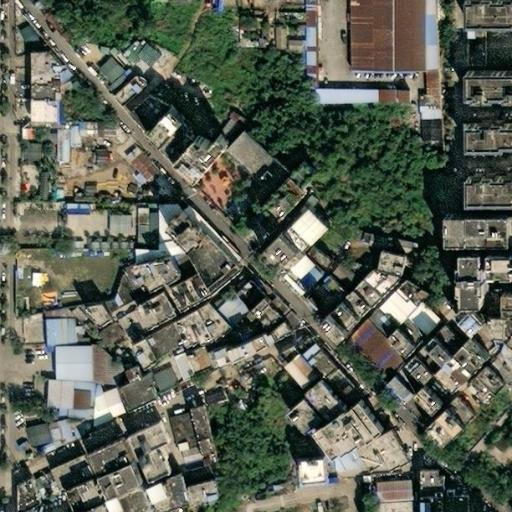building: (344, 0, 418, 73), (221, 130, 287, 193), (326, 409, 390, 471), (270, 167, 327, 229), (277, 336, 333, 392), (133, 203, 182, 262), (358, 323, 401, 380), (155, 118, 203, 166), (459, 21, 512, 64), (191, 146, 237, 193), (193, 243, 239, 290), (115, 26, 161, 71), (123, 89, 168, 133), (454, 222, 512, 254), (186, 402, 215, 464), (106, 468, 152, 505), (206, 104, 246, 146), (312, 385, 352, 426), (163, 211, 203, 252), (95, 443, 139, 480), (130, 424, 173, 461), (115, 376, 156, 414), (170, 276, 211, 314), (45, 456, 89, 491), (473, 262, 500, 317), (176, 313, 214, 352), (353, 269, 391, 308), (458, 69, 512, 96), (300, 213, 337, 250), (140, 450, 176, 487), (50, 345, 86, 382), (151, 478, 189, 512), (465, 178, 512, 205), (293, 403, 328, 438), (161, 254, 196, 289), (86, 346, 117, 385), (308, 85, 369, 104), (457, 0, 512, 21), (295, 0, 310, 76), (119, 150, 152, 183), (248, 298, 281, 331), (361, 441, 395, 473), (467, 127, 512, 151), (136, 261, 166, 295), (199, 305, 227, 340), (403, 305, 434, 336), (429, 423, 460, 454), (270, 229, 300, 259), (443, 396, 473, 426), (443, 414, 473, 444), (140, 172, 169, 203), (148, 295, 176, 327), (43, 419, 78, 444), (133, 338, 160, 370), (86, 384, 106, 427), (14, 479, 40, 512), (419, 391, 448, 420), (368, 480, 408, 501), (405, 359, 434, 387), (147, 364, 176, 392), (187, 481, 218, 507), (259, 240, 287, 268), (212, 296, 240, 324), (19, 448, 49, 474), (96, 388, 120, 420), (345, 293, 372, 321), (82, 483, 109, 511), (39, 318, 67, 345), (377, 253, 407, 278), (128, 490, 160, 512), (39, 381, 65, 408), (89, 56, 115, 83), (200, 381, 229, 405), (382, 377, 408, 403), (326, 263, 352, 289), (134, 303, 158, 331), (304, 462, 333, 485), (85, 306, 110, 332), (26, 102, 55, 124), (373, 300, 398, 325), (389, 333, 414, 358), (435, 369, 460, 394), (48, 407, 87, 423), (267, 323, 293, 347), (8, 24, 31, 50), (368, 87, 403, 104), (421, 471, 443, 498), (450, 362, 474, 386), (185, 349, 209, 373), (92, 323, 117, 346), (88, 143, 114, 165), (98, 72, 122, 95), (238, 281, 261, 305), (464, 318, 487, 341), (466, 380, 489, 403), (16, 324, 39, 346), (64, 389, 88, 410), (69, 489, 90, 512), (418, 69, 431, 106), (442, 494, 468, 512), (381, 288, 402, 309), (319, 310, 340, 331), (170, 360, 189, 383), (11, 144, 34, 163), (383, 455, 403, 475), (103, 215, 124, 233), (488, 321, 505, 343), (393, 299, 412, 318), (491, 364, 510, 383), (452, 307, 472, 325), (264, 23, 276, 49), (248, 344, 266, 361), (214, 350, 231, 368), (361, 235, 381, 250), (173, 448, 193, 463), (421, 498, 442, 512), (430, 341, 447, 358), (393, 447, 409, 465), (29, 475, 45, 492), (385, 240, 404, 254), (128, 224, 141, 244), (123, 171, 139, 187), (259, 339, 274, 355), (385, 435, 400, 451), (115, 66, 130, 82), (413, 106, 431, 119), (310, 270, 325, 284), (233, 19, 242, 42), (115, 501, 132, 512), (65, 383, 88, 391), (32, 174, 39, 199), (353, 475, 363, 491), (59, 121, 67, 141), (304, 277, 316, 290), (52, 140, 59, 162), (5, 371, 29, 377), (129, 213, 140, 225), (418, 60, 431, 69), (64, 241, 75, 248), (79, 242, 89, 249), (120, 243, 129, 250), (129, 208, 139, 213), (93, 242, 100, 249), (103, 242, 110, 249), (29, 371, 37, 377)
